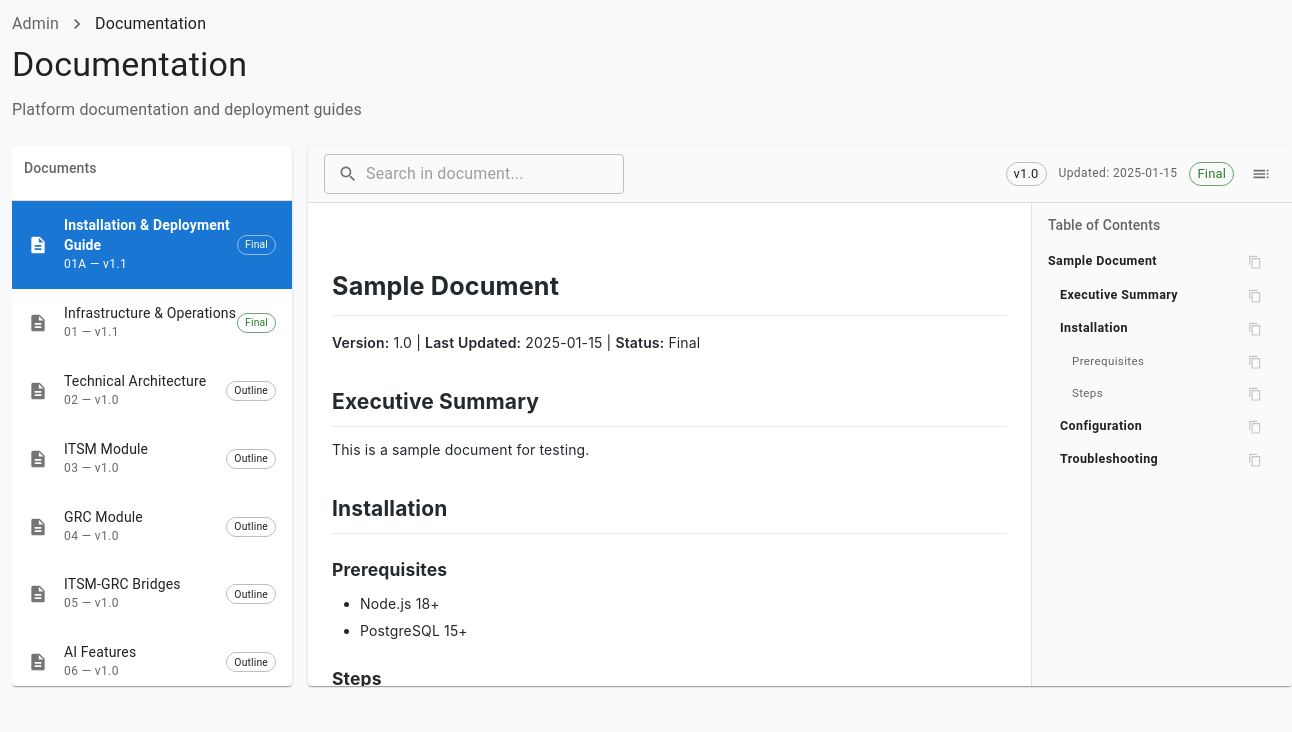
AdminDocsCenter › Table of Contents › should toggle TOC visibility
This screenshot has width=1292, height=732.
Check: the element with test id "toc-panel" is shown, box top-left (1032, 203), bottom-right (1291, 686)
Click the button with test id "toc-toggle": [1261, 174] box top-left (1246, 159), bottom-right (1276, 189)
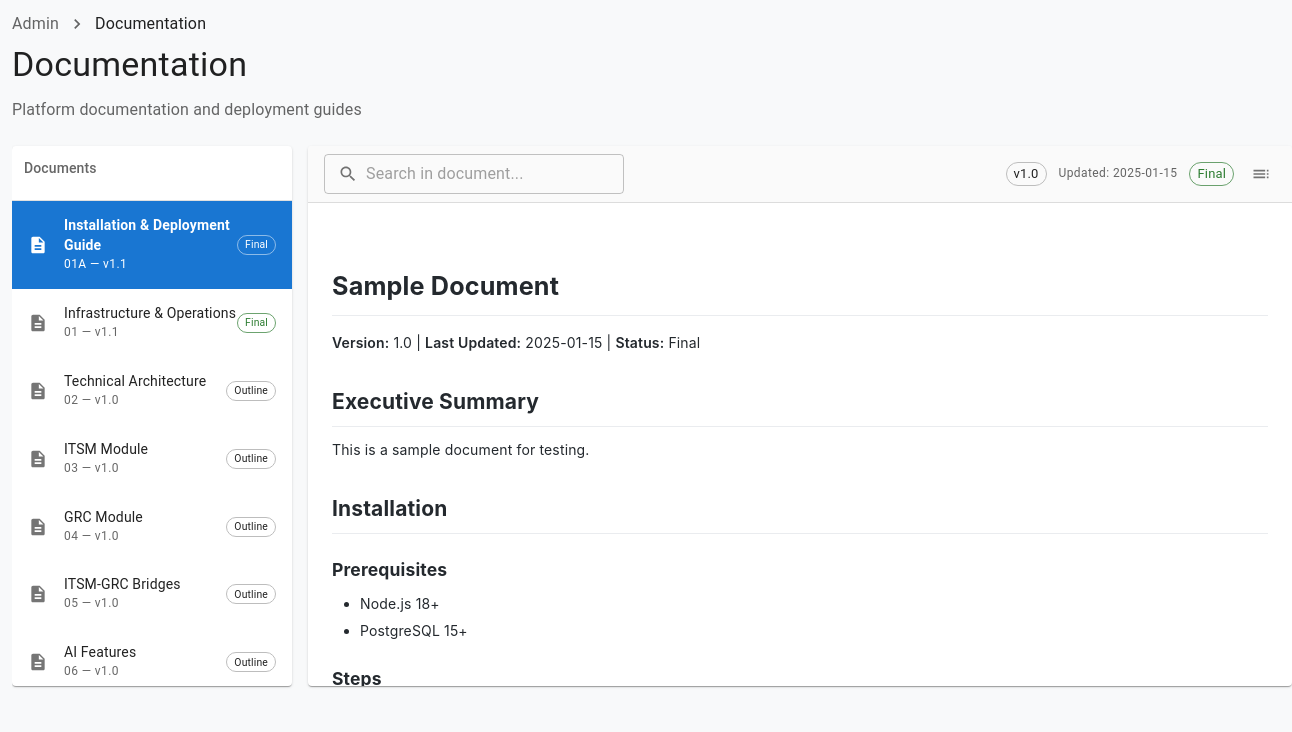
Check: the element with test id "toc-panel" is gone
